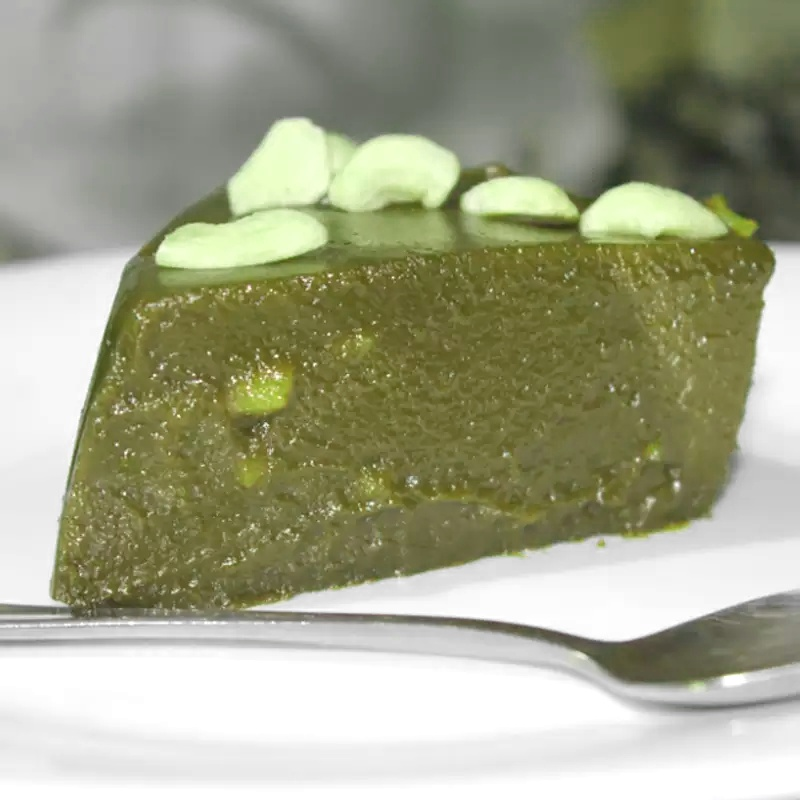dodol: (48, 110, 772, 614)
